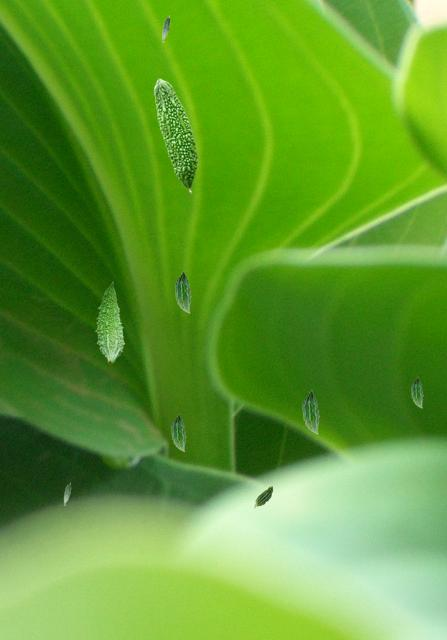ampalaya: (153, 78, 199, 194), (94, 281, 125, 364), (301, 389, 320, 434), (174, 270, 191, 313), (170, 413, 186, 452), (253, 485, 273, 508), (410, 376, 423, 408), (161, 15, 170, 42), (63, 482, 71, 506)
